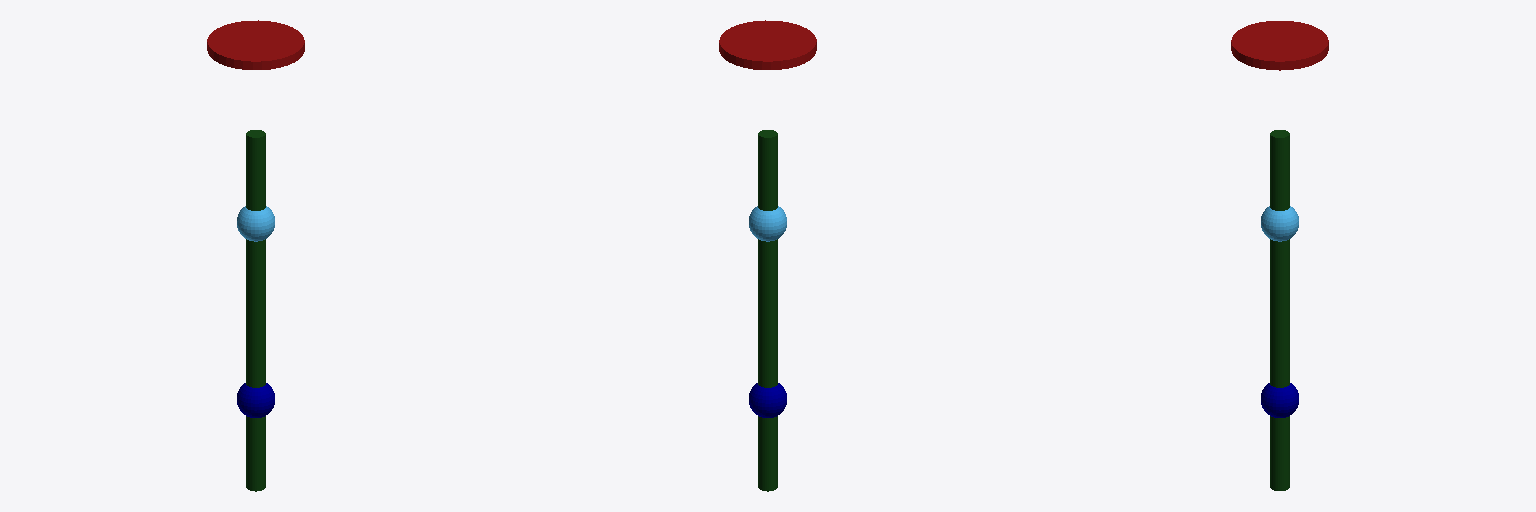
The robot description file, URDF, robot "RRBot_description":
<?xml version="1.0" ?>
<!--simple rrbot-->

<robot name="RRBot_description">
    <link name="base_link">
        <inertial>
            <origin xyz="0.0 0.0 0.0" rpy="0 0 0" />
            <mass value="1" />
            <inertia ixx="0.1" iyy="0.1" izz="0.1" ixy="0" ixz="0" iyz="0" />
        </inertial>
        <visual>
            <origin xyz="0.0 0.0 0.0" rpy="0 0 0" />
            <geometry>
                <cylinder radius="0.25" length="0.05"/>
            </geometry>
            <material name="material_red_custom" >
                <color rgba="0.6 0.1 0.1 1.0" />
            </material>   
        </visual>
    </link>
    <link name="link0">
        <inertial>
            <origin xyz="0.0 0.0 -1.0" rpy="0 0 0" />
            <mass value="1" />
            <inertia ixx="0.1" iyy="0.1" izz="0.1" ixy="0" ixz="0" iyz="0" />
        </inertial>
        <visual>
            <origin xyz="0.0 0.0 -1.0" rpy="0 0 0" />
            <geometry>
                <sphere radius="0.1" />
            </geometry>
        </visual>
        <visual>
            <origin xyz="0.0 0.0 -1.0" rpy="0 0 0" />
            <geometry>
                <cylinder radius="0.05" length="1.0" />
            </geometry>
            <material name="material_green_custom" >
                <color rgba="0.1 0.3 0.1 1.0" />
            </material>            
        </visual>
    </link>
    <link name="link1">
        <inertial>
            <origin xyz="0.0 0.0 -1.0" rpy="0 0 0" />
            <mass value="1" />
            <inertia ixx="0.1" iyy="0.1" izz="0.1" ixy="0" ixz="0" iyz="0" />
        </inertial>
        <visual>
            <origin xyz="0.0 0.0 -1.0" rpy="0 0 0" />
            <geometry>
                <sphere radius="0.1" />
            </geometry>
            <material name="material_blue">
                <color rgba="0.0 0.0 0.6 1.0" />
            </material>
        </visual>
        <visual>
            <origin xyz="0.0 0.0 -1.0" rpy="0 0 0" />
            <geometry>
                <cylinder radius="0.05" length="1.0" />
            </geometry>
            <material name="material_green_custom" >
                <color rgba="0.1 0.3 0.1 1.0" />
            </material> 
        </visual>
    </link>
    
    <joint name="j0" type="revolute">
        <parent link="base_link" />
        <child link="link0" />
        <origin xyz="0.000000 0.000000 0.000000" rpy="-0.000000 0.000000 -0.000000" />
        <axis xyz="1 0 0" />
        <limit lower="-2.967" upper="2.967" effort="176" velocity="1.7104" />
        <calibration rising="0.5" />
    </joint>
    <joint name="j1" type="revolute">
        <parent link="link0" />
        <child link="link1" />
        <origin xyz="0.000000 0.000000 -1.000000" rpy="-0.000000 0.000000 -0.000000" />
        <axis xyz="1 0 0" />
        <limit lower="-2.967" upper="2.967" effort="176" velocity="1.7104" />
        <calibration rising="0.8" />
    </joint>
    
</robot>

--- Render facts (derived) ---
Views: 3 orthographic renders of the robot side by side, from view 1: azimuth 30°, elevation 25°; view 2: azimuth 150°, elevation 25°; view 3: azimuth 270°, elevation 25°.
Robot: RRBot_description — 3 links, 2 joints (2 revolute); root link base_link; default pose: all joints at 0.
Visible links, largest first — view 1: link0, base_link, link1; view 2: link0, base_link, link1; view 3: link0, base_link, link1.
Link boxes in pixels (bbox=[...]): link0: bbox=[237, 130, 274, 314]; base_link: bbox=[207, 20, 304, 69]; link1: bbox=[237, 311, 274, 491]; link0: bbox=[749, 130, 786, 314]; base_link: bbox=[719, 20, 816, 69]; link1: bbox=[749, 311, 786, 491]; link0: bbox=[1261, 130, 1298, 314]; base_link: bbox=[1231, 21, 1328, 70]; link1: bbox=[1261, 312, 1298, 490].
Bounding box of the posed robot: 0.5 × 0.5 × 2.52 m (x, y, z).
Geometry: primitives only (box / cylinder / sphere), no mesh files.